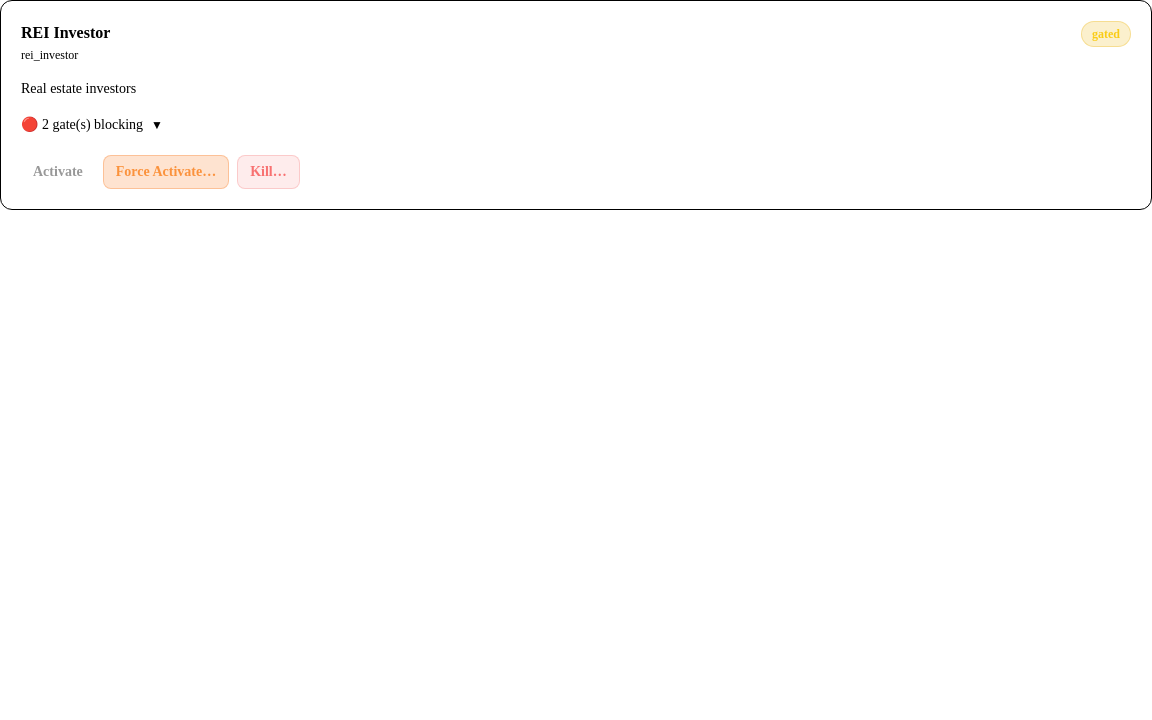
Scenario: IcpChannelCard — force modal flow › modal closes after successful submission
The width and height of the screenshot is (1152, 720).
Click the button with test id "btn-force-activate" at {"x": 166, "y": 172}, box left=103, top=155, right=229, bottom=189
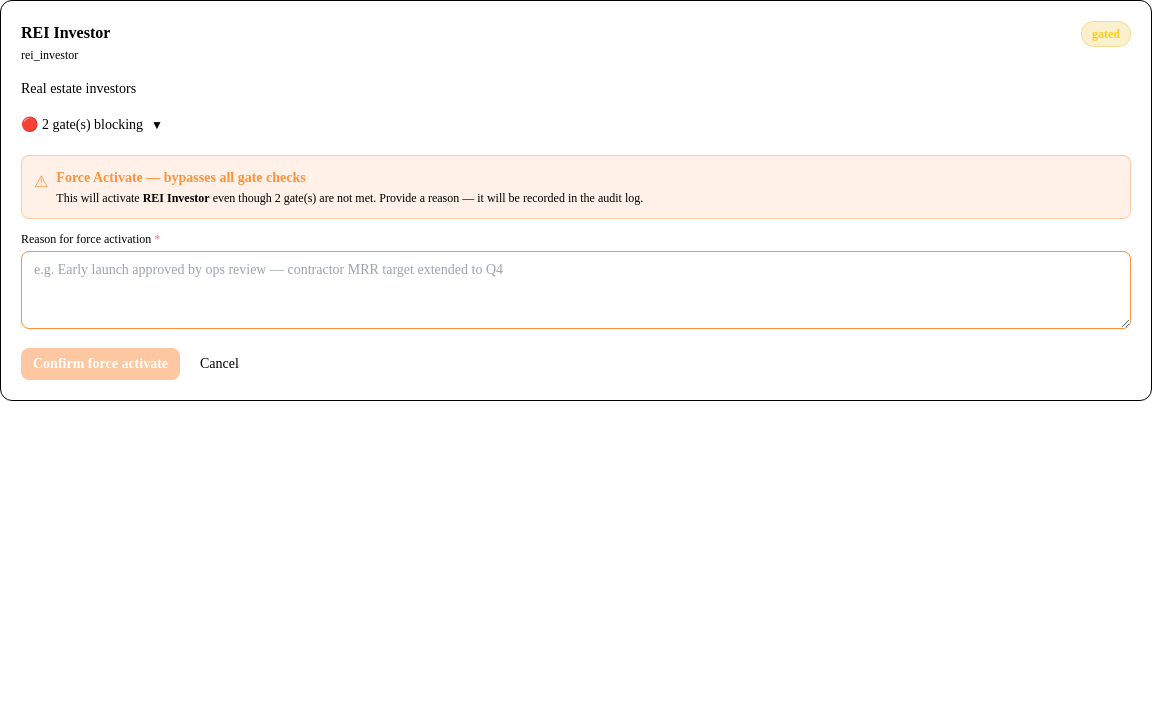
Type "Approved by ops team for Q4 rollout." into the text box with test id "force-reason-input" at {"x": 576, "y": 290}, box left=21, top=251, right=1131, bottom=329
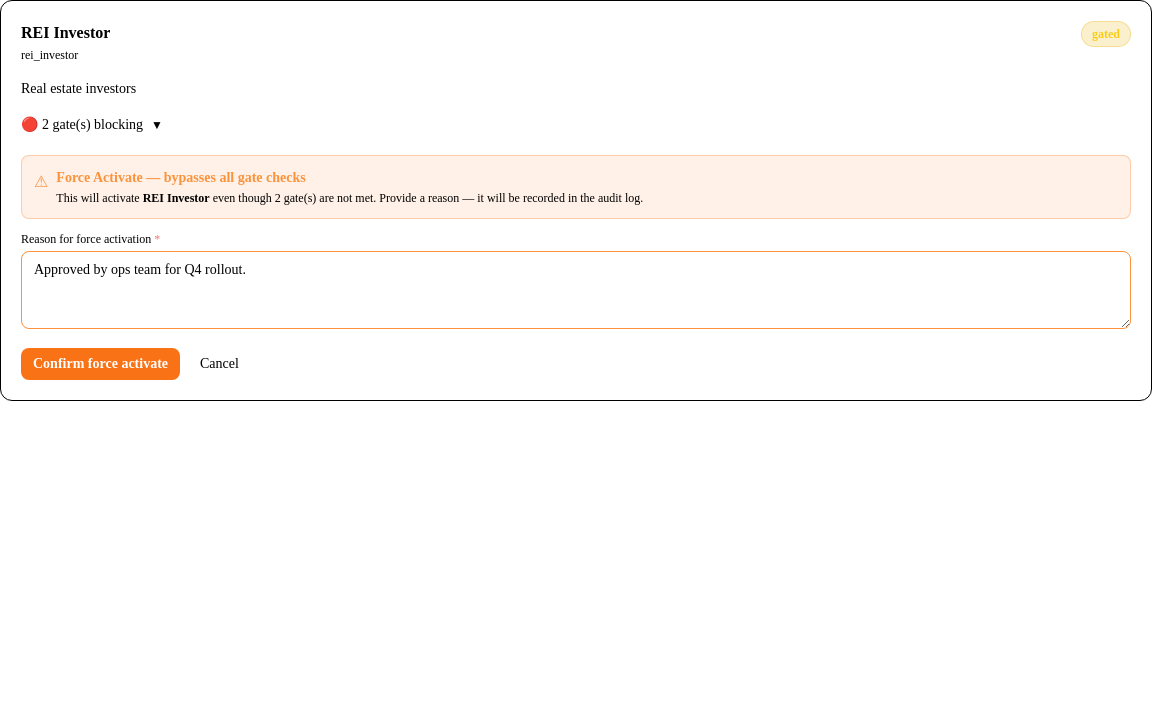
Click the button with test id "btn-confirm-force" at {"x": 100, "y": 364}, box left=21, top=348, right=180, bottom=380
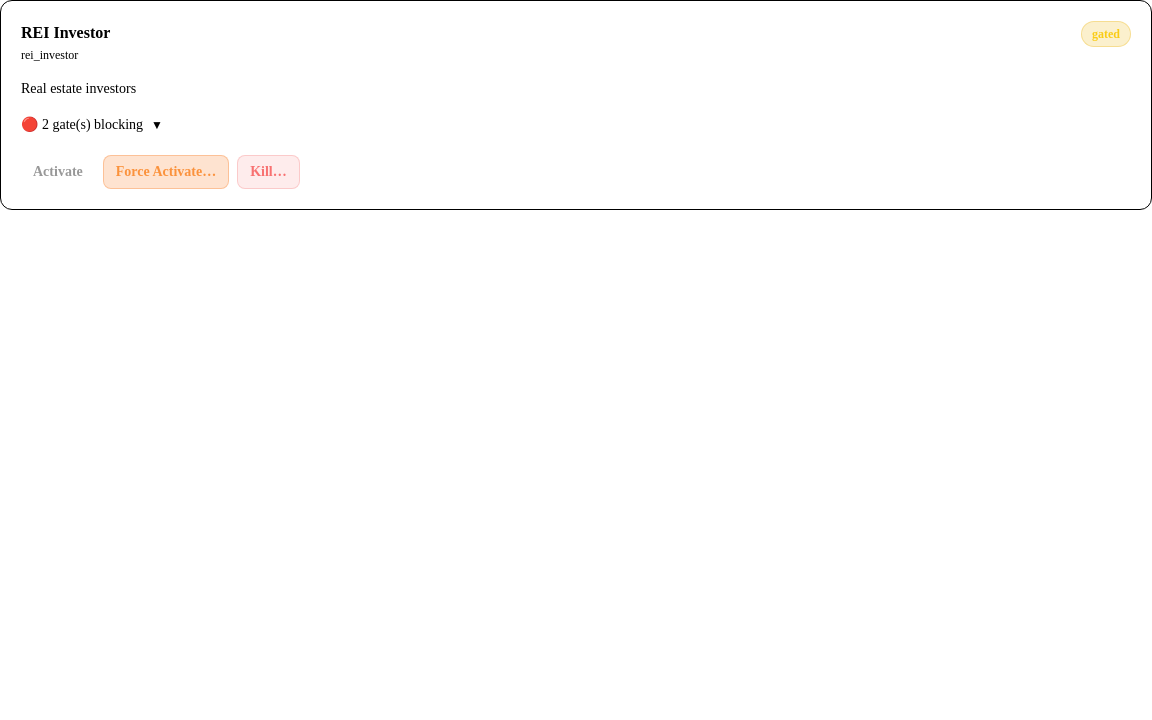
Expected: the dialog with test id "force-modal" is gone
